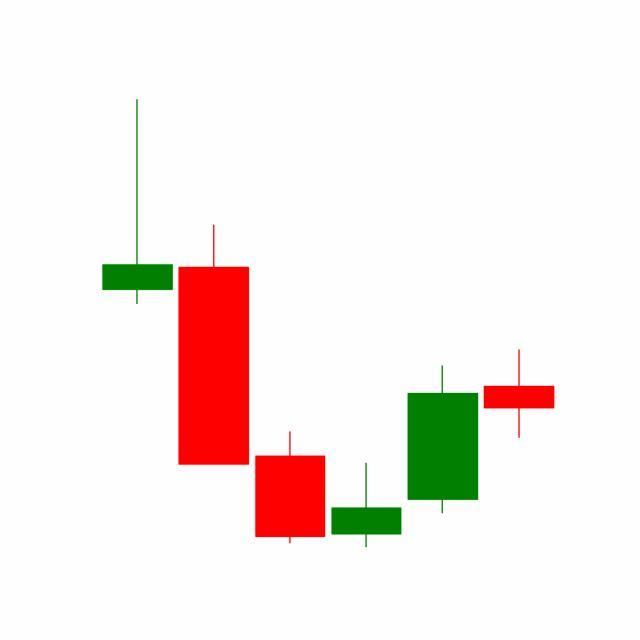Three Inside Up-Down: (252, 363, 482, 549)
